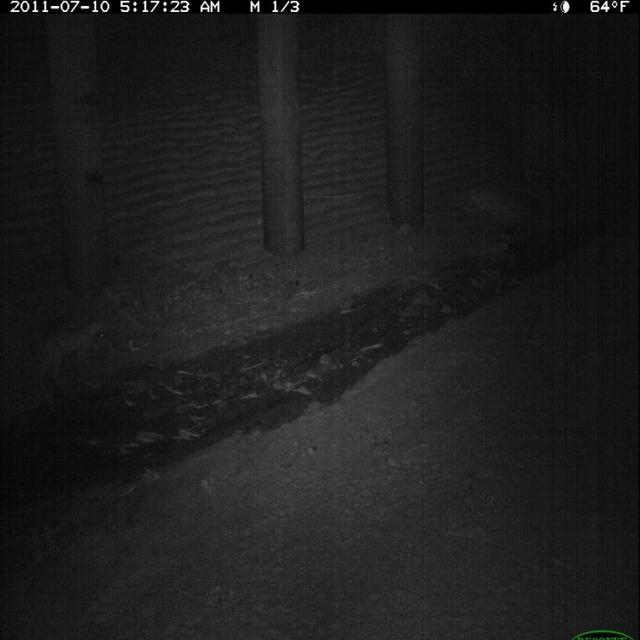bobcat: (33, 312, 108, 399)
